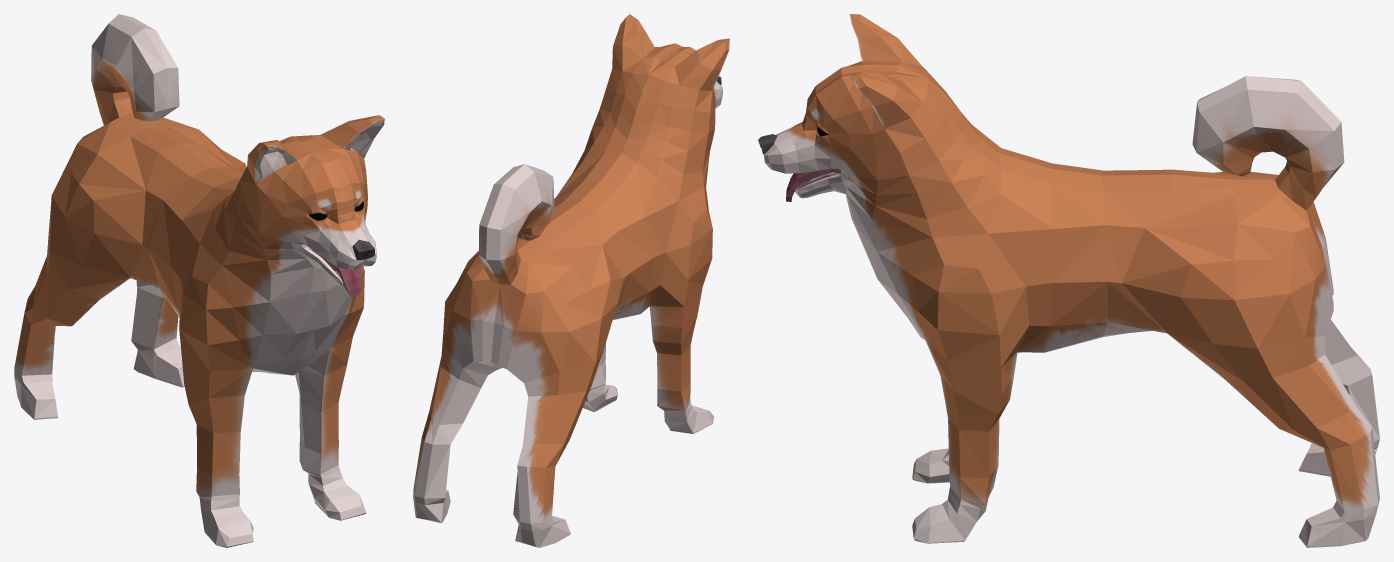
The model's file is Dogm.fbx.
3 renders of one model, left to right at view 1: azimuth 30°, elevation 25°; view 2: azimuth 150°, elevation 25°; view 3: azimuth 270°, elevation 25°, orthographic. The views are drawn at different scales.
Visible parts, largest first — view 1: Plane005; view 2: Plane005; view 3: Plane005.
Part boxes in pixels (bbox=[...]): Plane005: bbox=[14, 14, 384, 547]; Plane005: bbox=[413, 14, 729, 547]; Plane005: bbox=[758, 14, 1379, 547].
Bounding box in the file's own units: 54.77 × 124 × 152.
